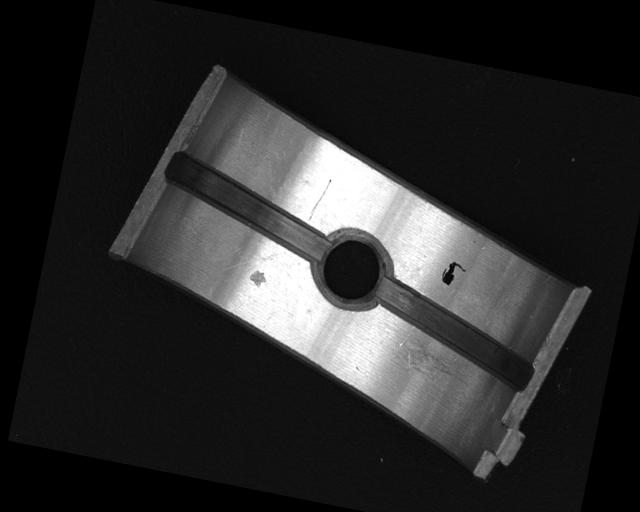blot: (439, 258, 469, 290)
bruise: (247, 268, 269, 290)
gap: (363, 277, 545, 392)
hole: (155, 150, 342, 265), (310, 224, 398, 310)
nick: (306, 175, 333, 226)
scratch: (375, 318, 477, 384)
